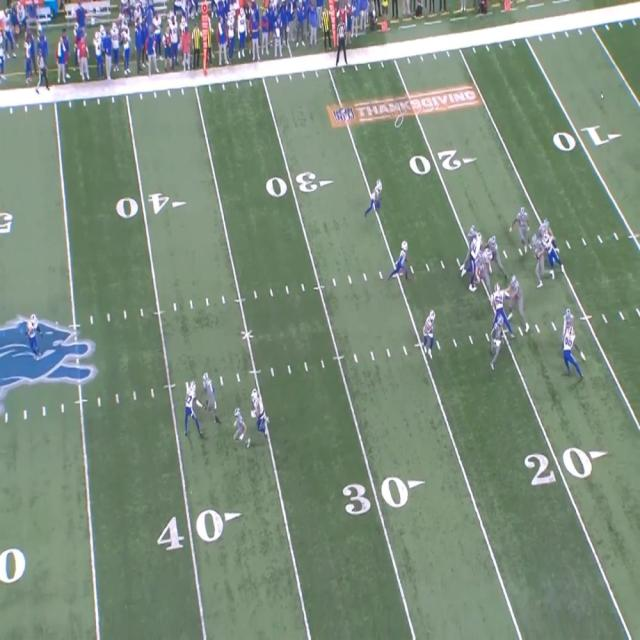db: (182, 379, 198, 434), (28, 314, 44, 356), (397, 240, 411, 282), (367, 179, 382, 217)
lb: (424, 308, 436, 352)
qb: (530, 233, 548, 280)
skill: (203, 370, 217, 422), (489, 317, 503, 367), (252, 388, 266, 433), (233, 408, 249, 446), (518, 207, 528, 256), (539, 217, 553, 234)
